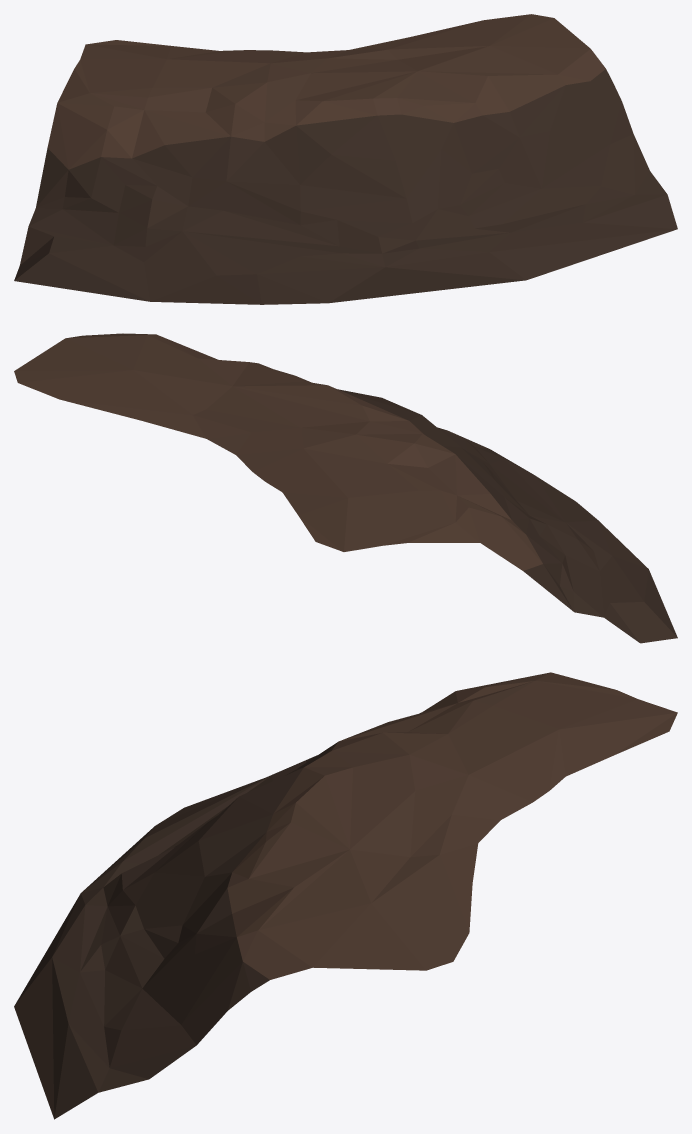
The model's file is synty-terrain-riverside-corner-02.gltf.
The picture shows the model from 3 angles, top to bottom: view 1: azimuth 30°, elevation 25°; view 2: azimuth 150°, elevation 25°; view 3: azimuth 270°, elevation 25°; orthographic projection. The views are drawn at different scales.
Parts seen in each view (by area): view 1: SM_Terrain_RiverSide_Corner_02; view 2: SM_Terrain_RiverSide_Corner_02; view 3: SM_Terrain_RiverSide_Corner_02.
Boxes of the visible parts, x1,y1,x2,y2 form: SM_Terrain_RiverSide_Corner_02: (14, 14, 677, 304); SM_Terrain_RiverSide_Corner_02: (14, 333, 677, 643); SM_Terrain_RiverSide_Corner_02: (14, 672, 677, 1119).
Size of the model in its own units: 9.18 by 1.93 by 6.74.
1 material, 1 textured.
